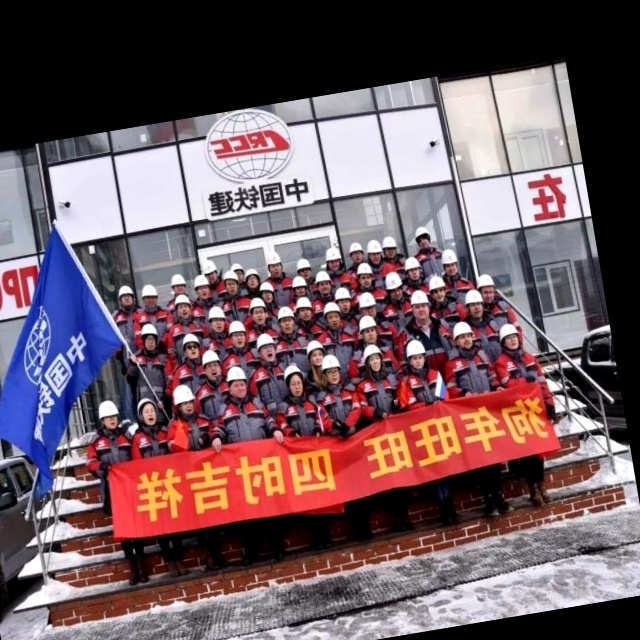Con_Casco: (281, 364, 307, 400), (407, 289, 433, 324), (171, 382, 197, 415), (254, 331, 279, 363), (96, 398, 122, 428), (224, 365, 248, 397), (320, 354, 344, 386), (497, 323, 520, 353), (180, 331, 202, 361)
